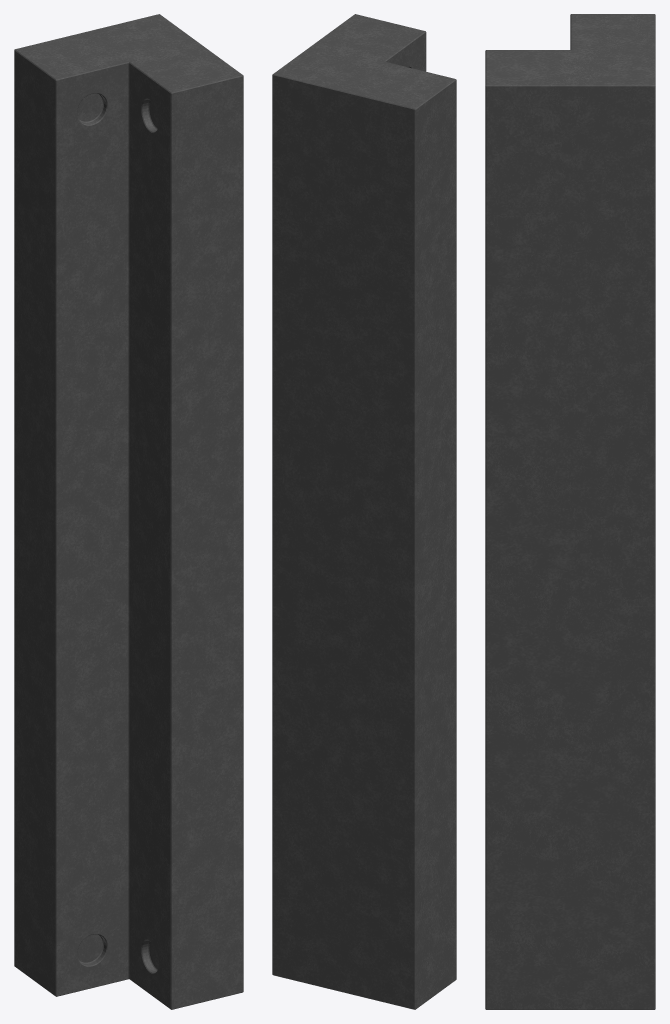
The model's file is wall-inner-corner_1,00x6,00x1,00_old-concrete_1_1_high.glb.
3 renders of one model, left to right at view 1: azimuth 30°, elevation 25°; view 2: azimuth 150°, elevation 25°; view 3: azimuth 270°, elevation 25°, orthographic. The views are drawn at different scales.
Parts seen in each view (by area): view 1: high_1; view 2: high_1; view 3: high_1.
Part boxes in pixels (x1=…): high_1: x1=14, y1=14, x2=243, y2=1009; high_1: x1=272, y1=14, x2=456, y2=1009; high_1: x1=485, y1=14, x2=655, y2=1009.
Size of the model in its own units: 1 by 6 by 1.
Materials: 1 (1 with a texture image).
